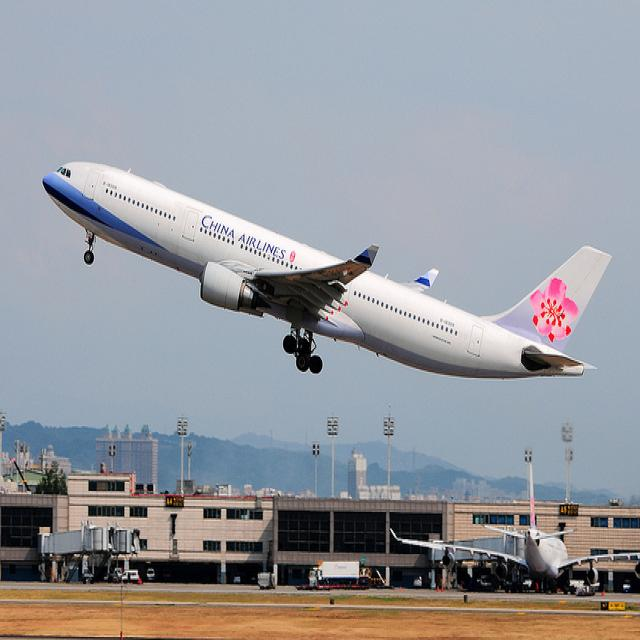Vehicle: (307, 560, 359, 590), (146, 568, 155, 582)
